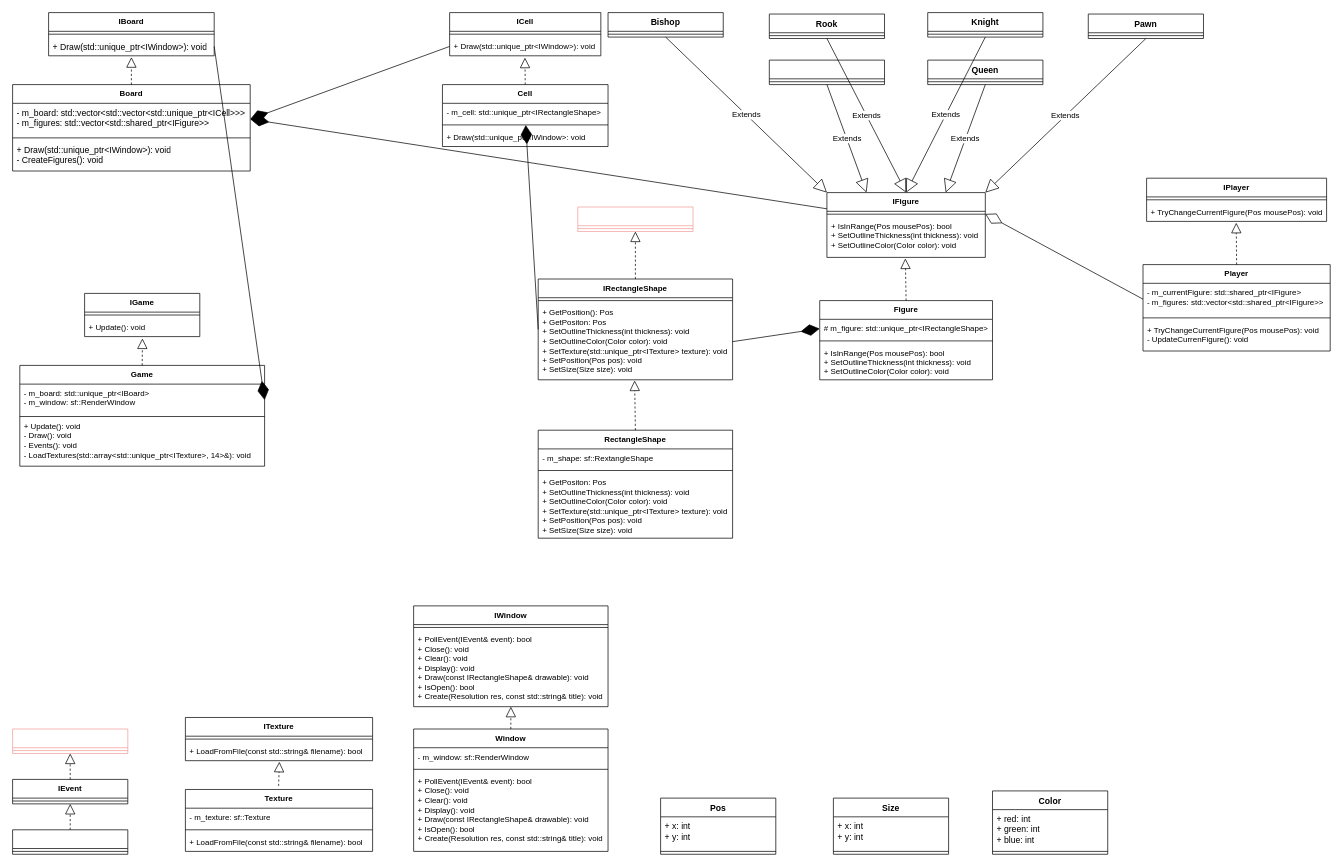
Image size: 1343x867. Some labels were removed from this diagram. The centre of each missing label's shape, as x and y in pixels:
"Event" goes at (70,841).
"King" goes at (827,72).
"sf::Drawable" goes at (635,218).
"sf::Event" goes at (70,740).
